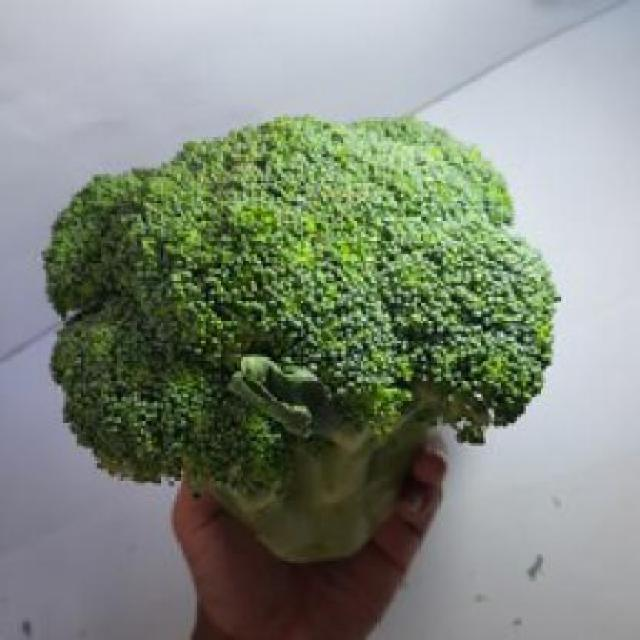broccoli: (57, 148, 546, 566)
